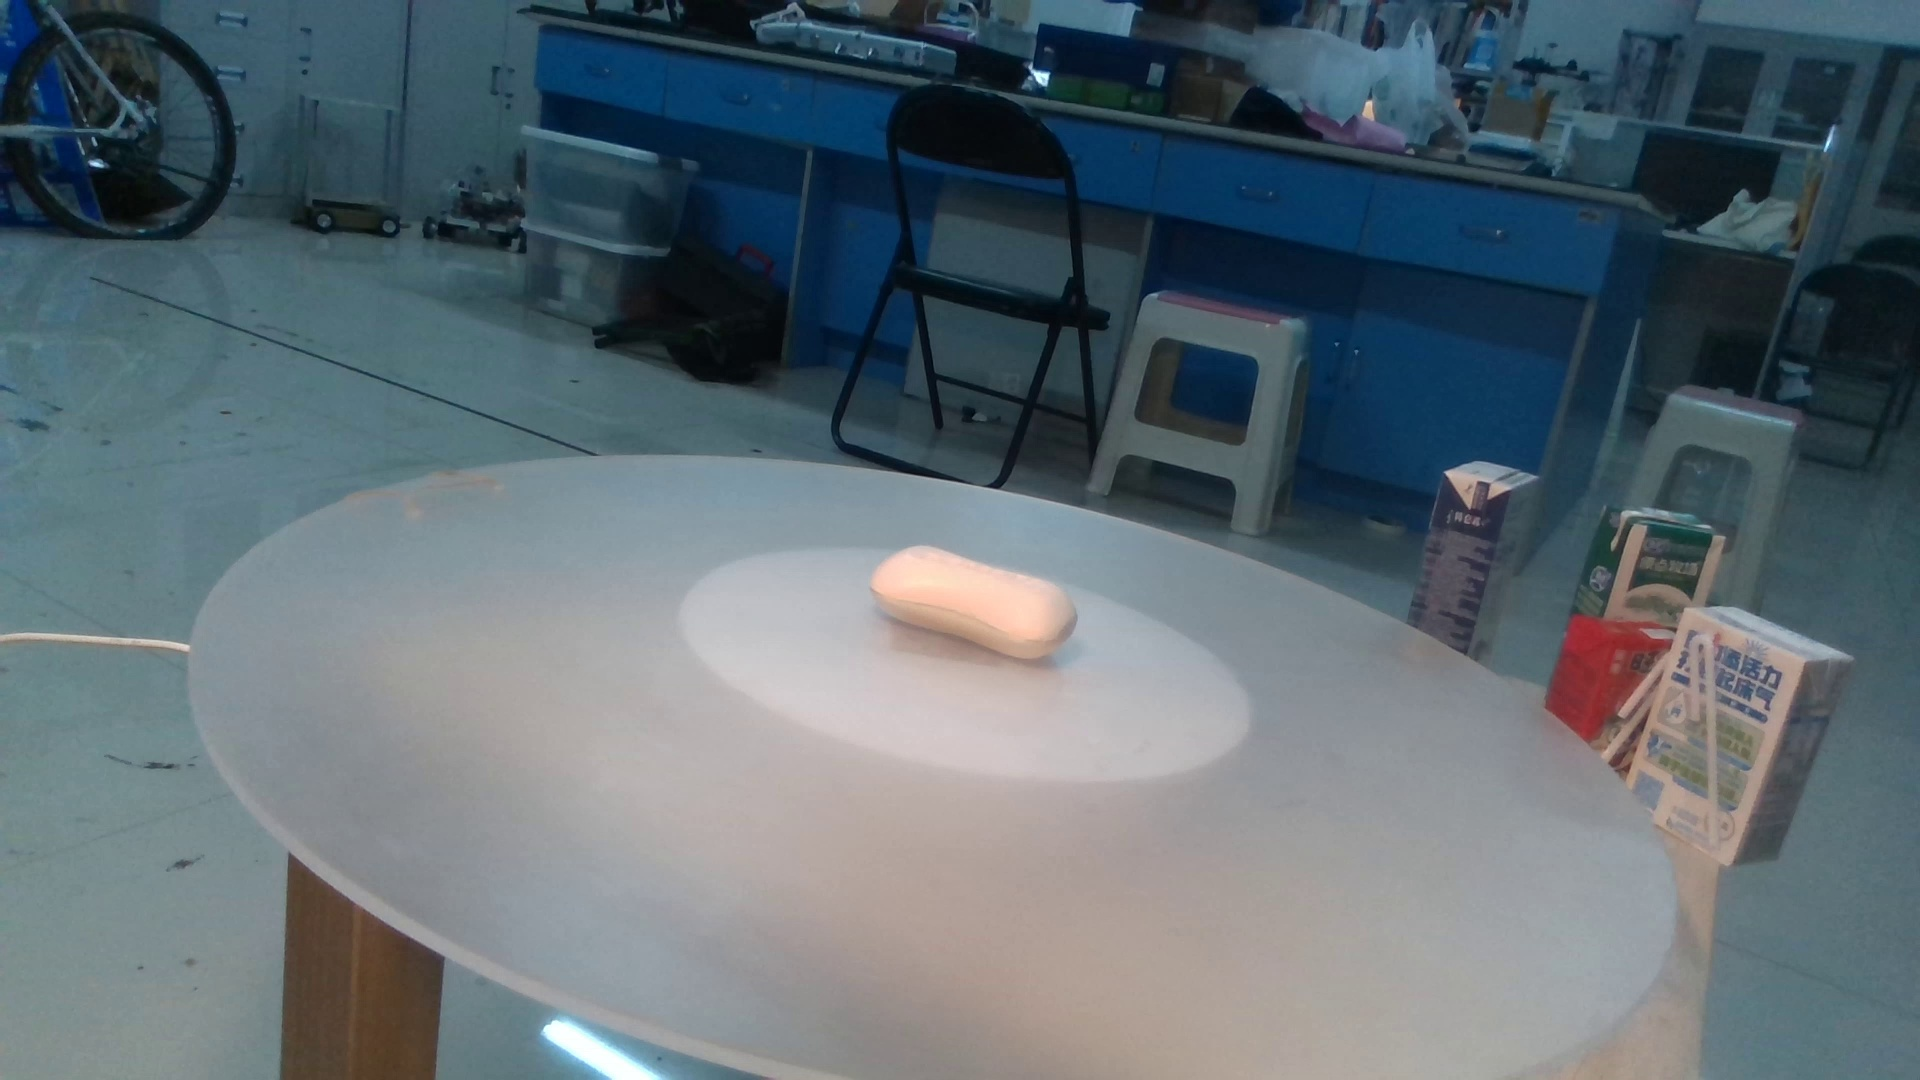CA003_1: (848, 522, 1098, 690)
